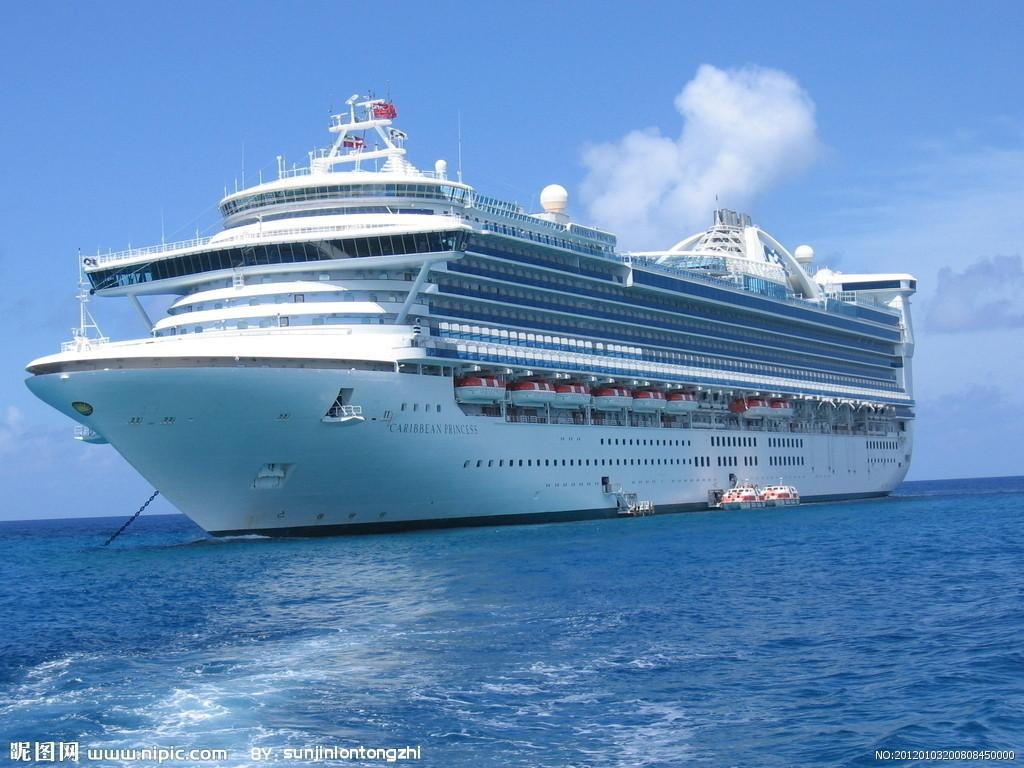youlun: (15, 100, 935, 537)
